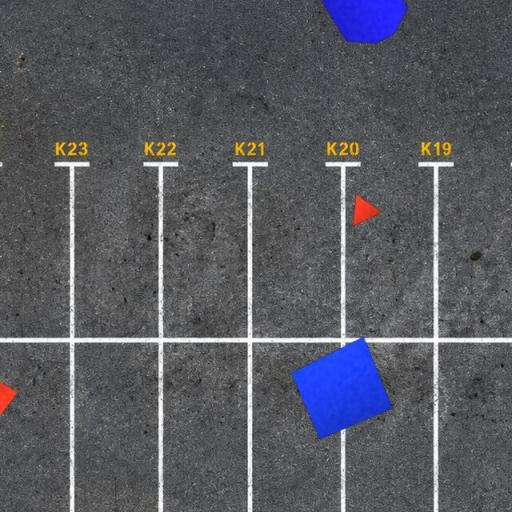BLUE_SQUARE: (290, 335, 394, 440)
RED_SQUARE: (0, 369, 18, 425)
